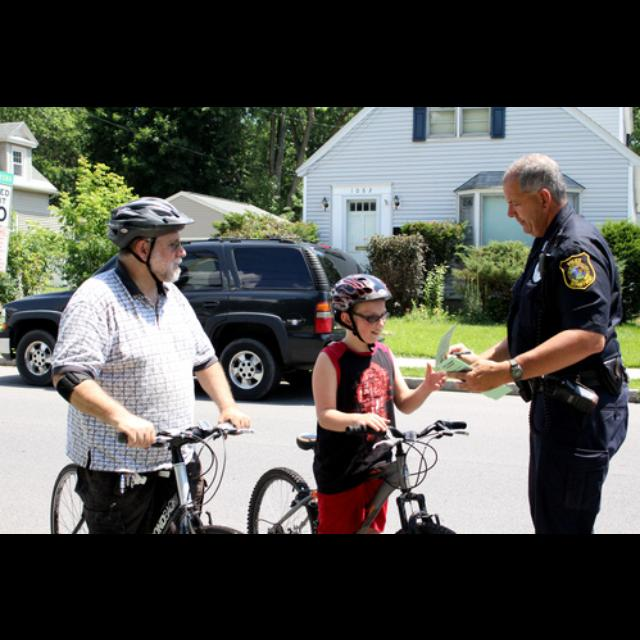With Helmet: (105, 197, 193, 283), (324, 260, 401, 354), (498, 150, 572, 236)
